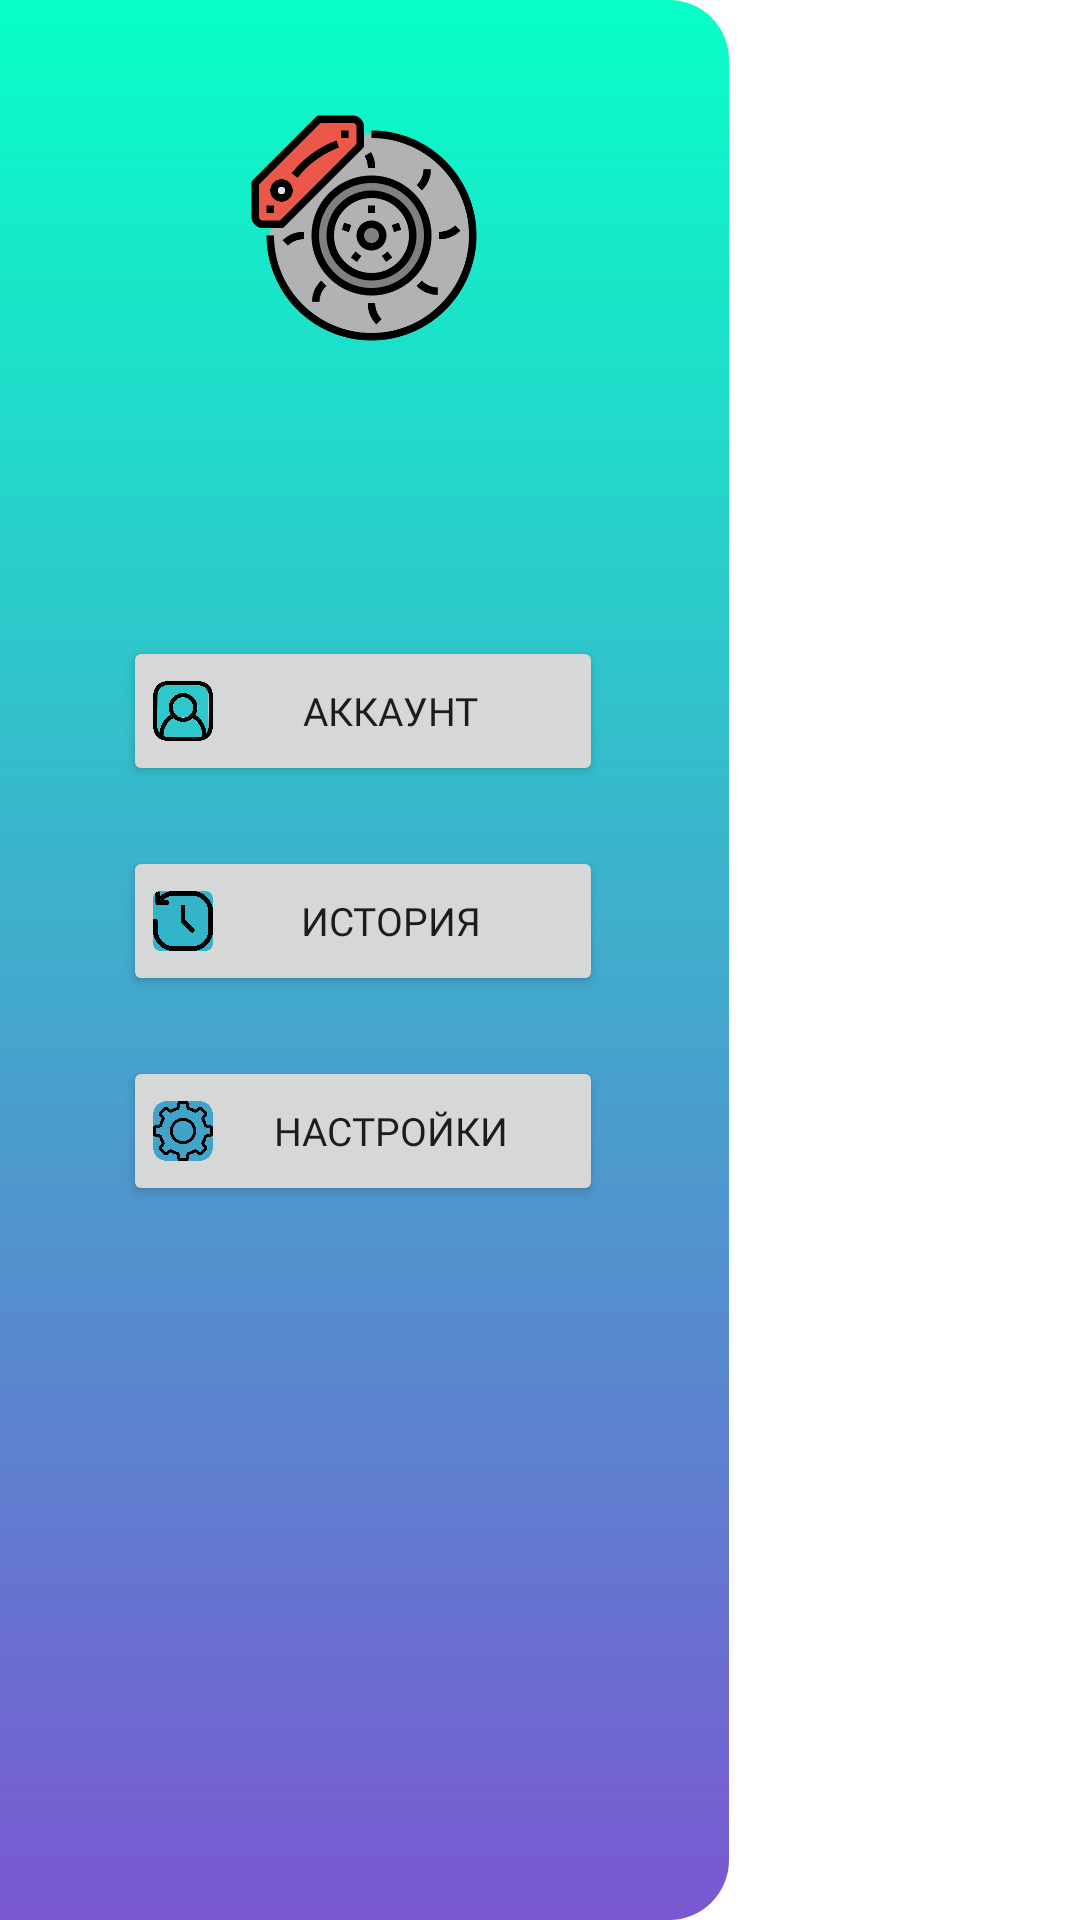

Where icons sit on this 1080 × 1920 app screen, as (x1, y1, x2, y2):
brake: (251, 115, 477, 341)
